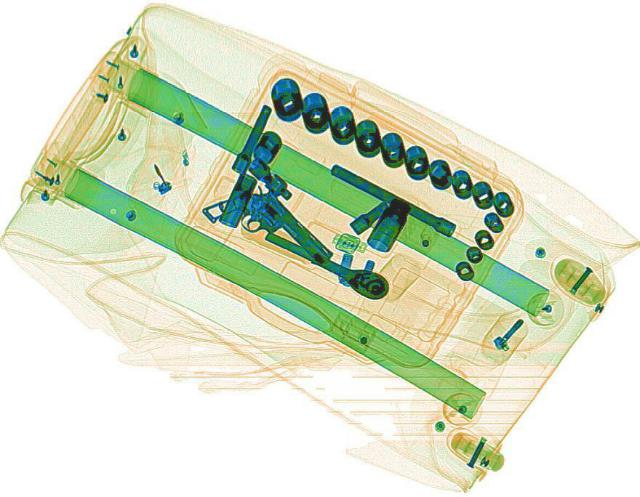Gun: (196, 178, 332, 285)
